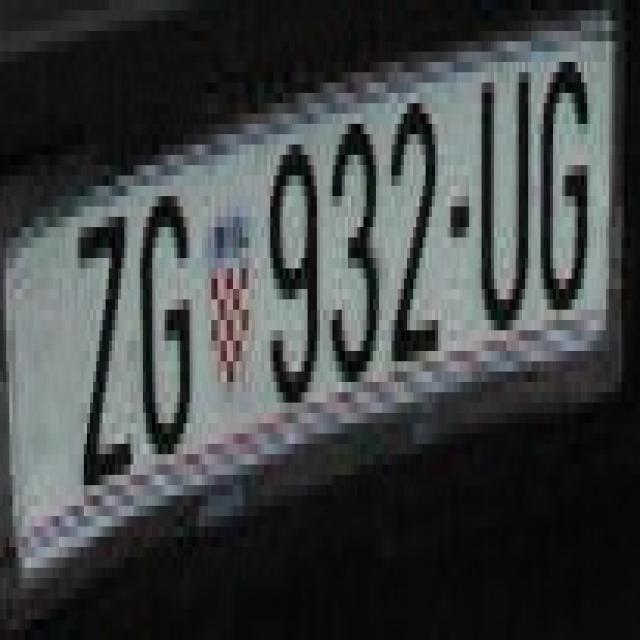2: (385, 83, 438, 361)
3: (326, 114, 376, 372)
9: (264, 134, 323, 392)
G: (538, 41, 590, 320), (136, 196, 192, 454)
U: (479, 52, 528, 340)
Z: (75, 186, 136, 475)
